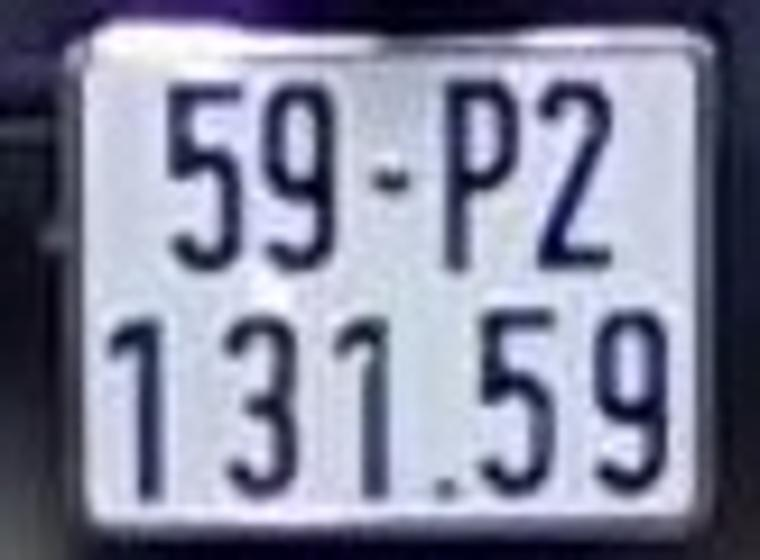-: (370, 152, 414, 205)
.: (424, 467, 468, 509)
1: (102, 306, 178, 510), (328, 301, 400, 505)
2: (533, 71, 626, 276)
3: (209, 307, 306, 507)
5: (477, 298, 564, 501), (161, 76, 249, 275)
9: (586, 295, 673, 503), (259, 76, 342, 281)
P: (437, 72, 522, 276)
